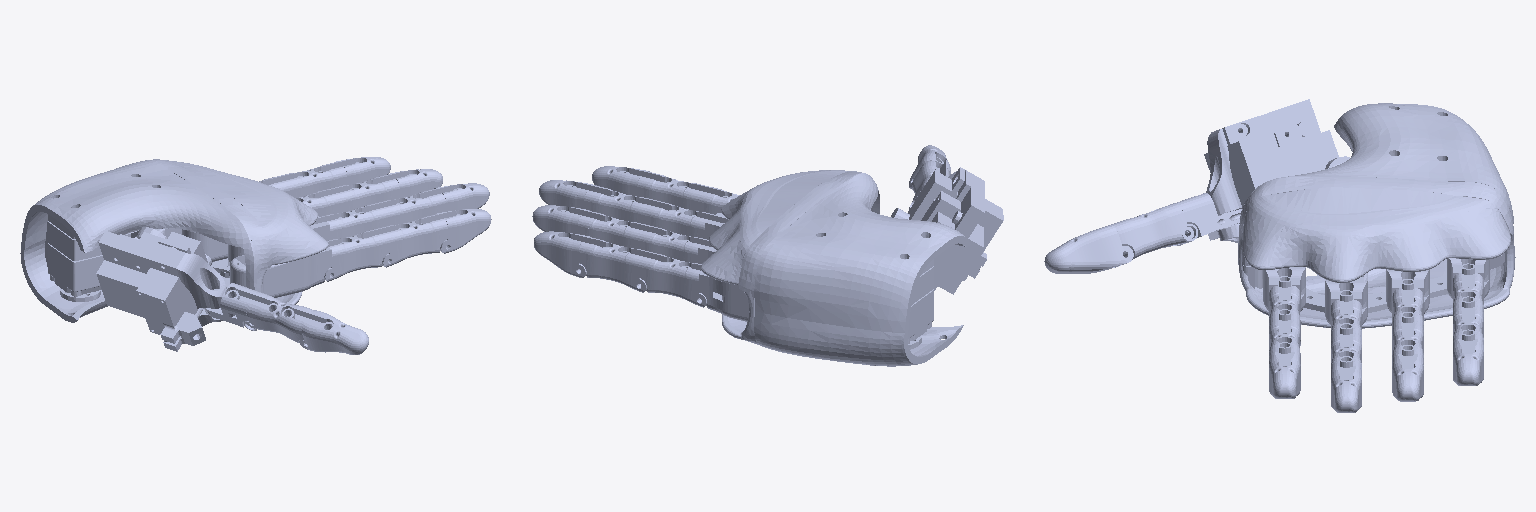
--- Render facts (derived) ---
The picture shows the robot from 3 angles, left to right: view 1: azimuth 30°, elevation 25°; view 2: azimuth 150°, elevation 25°; view 3: azimuth 270°, elevation 25°; orthographic projection.
Model soft_exterior_hand with 21 links and 20 joints (20 continuous), rooted at base_link, posed all joints at 0.
Links seen in each view (by area): view 1: base_link, thumb_link_0, index_link_0, index_link_2, index_link_1, thumb_link_3, thumb_link_2, index_link_3, ring_link_2, middle_link_2, middle_link_1, little_link_2 (+6 smaller); view 2: base_link, thumb_link_0, little_link_2, little_link_1, little_link_3, middle_link_2, index_link_2, middle_link_1, ring_link_2, ring_link_1, little_link_0, ring_link_3 (+4 smaller); view 3: base_link, thumb_link_0, thumb_link_3, thumb_link_2, thumb_link_1, ring_link_3, index_link_3, middle_link_3, little_link_3, middle_link_0, ring_link_0, index_link_0 (+9 smaller).
Boxes of the visible links, box(x1,y1,x2,y2) form: base_link: box(20, 159, 328, 322); thumb_link_0: box(96, 231, 226, 351); index_link_0: box(230, 247, 331, 297); index_link_2: box(380, 214, 447, 267); index_link_1: box(324, 228, 389, 281); thumb_link_3: box(299, 310, 368, 354); thumb_link_2: box(244, 292, 311, 342); index_link_3: box(437, 209, 491, 253); ring_link_2: box(330, 174, 399, 211); middle_link_2: box(379, 189, 445, 225); middle_link_1: box(321, 203, 387, 239); little_link_2: box(279, 162, 346, 197); base_link: box(701, 170, 970, 366); thumb_link_0: box(891, 167, 1003, 294); little_link_2: box(579, 237, 648, 292); little_link_1: box(639, 252, 706, 307); little_link_3: box(534, 231, 589, 277); middle_link_2: box(584, 186, 654, 223); index_link_2: box(637, 172, 707, 210); middle_link_1: box(645, 200, 714, 238); ring_link_2: box(578, 211, 649, 248); ring_link_1: box(638, 226, 707, 262); little_link_0: box(699, 272, 748, 321); ring_link_3: box(532, 205, 589, 233); base_link: box(1238, 103, 1515, 328); thumb_link_0: box(1204, 99, 1338, 242); thumb_link_3: box(1044, 225, 1133, 273); thumb_link_2: box(1111, 203, 1197, 266); thumb_link_1: box(1177, 193, 1241, 244); ring_link_3: box(1392, 354, 1423, 401); index_link_3: box(1269, 352, 1300, 398); middle_link_3: box(1331, 366, 1361, 412); little_link_3: box(1453, 339, 1483, 385); middle_link_0: box(1325, 273, 1367, 324); ring_link_0: box(1386, 269, 1429, 313); index_link_0: box(1263, 267, 1305, 311).
Bounding box of the posed robot: 0.1832 × 0.1567 × 0.0492 m (x, y, z).
21 mesh visuals loaded from 21 distinct referenced files (21 binary STL).

robot.urdf — soft_exterior_hand:
<?xml version="1.0" encoding="utf-8"?>
<!-- This URDF was automatically created by SolidWorks to URDF Exporter! Originally created by Stephen Brawner ([email redacted]) 
     Commit Version: 1.6.0-1-g15f4949  Build Version: 1.6.7594.29634
     For more information, please see http://wiki.ros.org/sw_urdf_exporter -->
<robot
  name="soft_exterior_hand">
  <link
    name="base_link">
    <inertial>
      <origin
        xyz="0.027561524551375 -0.00371843558037129 0.0211532225131142"
        rpy="0 0 0" />
      <mass
        value="0.0711611664433979" />
      <inertia
        ixx="4.39073465936608E-05"
        ixy="1.41079438324117E-05"
        ixz="-4.74189208084904E-07"
        iyy="5.8206720017937E-05"
        iyz="2.02671311342142E-06"
        izz="7.28463657446721E-05" />
    </inertial>
    <visual>
      <origin
        xyz="0 0 0"
        rpy="0 0 0" />
      <geometry>
        <mesh
          filename="package://soft_exterior_hand/meshes/base_link.STL" />
      </geometry>
      <material
        name="">
        <color
          rgba="0.792156862745098 0.819607843137255 0.933333333333333 1" />
      </material>
    </visual>
    <collision>
      <origin
        xyz="0 0 0"
        rpy="0 0 0" />
      <geometry>
        <mesh
          filename="package://soft_exterior_hand/meshes/base_link.STL" />
      </geometry>
    </collision>
  </link>
  <link
    name="index_link_0">
    <inertial>
      <origin
        xyz="0.0138646054905531 -4.39538700205203E-05 0.0110992694616182"
        rpy="0 0 0" />
      <mass
        value="0.00389551436223297" />
      <inertia
        ixx="1.57764153402908E-07"
        ixy="1.8088532856063E-09"
        ixz="-8.95755103566611E-09"
        iyy="6.50726035722494E-07"
        iyz="4.84404655044715E-11"
        izz="6.4631924388962E-07" />
    </inertial>
    <visual>
      <origin
        xyz="0 0 0"
        rpy="0 0 0" />
      <geometry>
        <mesh
          filename="package://soft_exterior_hand/meshes/index_link_0.STL" />
      </geometry>
      <material
        name="">
        <color
          rgba="0.792156862745098 0.819607843137255 0.933333333333333 1" />
      </material>
    </visual>
    <collision>
      <origin
        xyz="0 0 0"
        rpy="0 0 0" />
      <geometry>
        <mesh
          filename="package://soft_exterior_hand/meshes/index_link_0.STL" />
      </geometry>
    </collision>
  </link>
  <joint
    name="index_joint_0"
    type="continuous">
    <origin
      xyz="0.0522300000000001 -0.04448 0.00190000000000009"
      rpy="0 0 0" />
    <parent
      link="base_link" />
    <child
      link="index_link_0" />
    <axis
      xyz="0 0 -1" />
  </joint>
  <link
    name="index_link_1">
    <inertial>
      <origin
        xyz="0.0126576916048561 -3.57866607549051E-07 0.00392167963569328"
        rpy="0 0 0" />
      <mass
        value="0.00237597738047647" />
      <inertia
        ixx="5.30549026243299E-08"
        ixy="-8.326699069159E-13"
        ixz="-3.37594302555993E-09"
        iyy="1.77547241777009E-07"
        iyz="-7.1773823457129E-13"
        izz="1.71550604215861E-07" />
    </inertial>
    <visual>
      <origin
        xyz="0 0 0"
        rpy="0 0 0" />
      <geometry>
        <mesh
          filename="package://soft_exterior_hand/meshes/index_link_1.STL" />
      </geometry>
      <material
        name="">
        <color
          rgba="0.792156862745098 0.819607843137255 0.933333333333333 1" />
      </material>
    </visual>
    <collision>
      <origin
        xyz="0 0 0"
        rpy="0 0 0" />
      <geometry>
        <mesh
          filename="package://soft_exterior_hand/meshes/index_link_1.STL" />
      </geometry>
    </collision>
  </link>
  <joint
    name="index_joint_1"
    type="continuous">
    <origin
      xyz="0.0318999999999999 0 0.00739999999999985"
      rpy="0 0 0" />
    <parent
      link="index_link_0" />
    <child
      link="index_link_1" />
    <axis
      xyz="0 -1 0" />
  </joint>
  <link
    name="index_link_2">
    <inertial>
      <origin
        xyz="0.0126576916048561 -3.57866607569868E-07 0.00392167963569328"
        rpy="0 0 0" />
      <mass
        value="0.00237597738047648" />
      <inertia
        ixx="5.30549026243303E-08"
        ixy="-8.32669907055495E-13"
        ixz="-3.37594302555957E-09"
        iyy="1.7754724177701E-07"
        iyz="-7.17738234472653E-13"
        izz="1.71550604215861E-07" />
    </inertial>
    <visual>
      <origin
        xyz="0 0 0"
        rpy="0 0 0" />
      <geometry>
        <mesh
          filename="package://soft_exterior_hand/meshes/index_link_2.STL" />
      </geometry>
      <material
        name="">
        <color
          rgba="0.792156862745098 0.819607843137255 0.933333333333333 1" />
      </material>
    </visual>
    <collision>
      <origin
        xyz="0 0 0"
        rpy="0 0 0" />
      <geometry>
        <mesh
          filename="package://soft_exterior_hand/meshes/index_link_2.STL" />
      </geometry>
    </collision>
  </link>
  <joint
    name="index_joint_2"
    type="continuous">
    <origin
      xyz="0.026 0 0"
      rpy="0 0 0" />
    <parent
      link="index_link_1" />
    <child
      link="index_link_2" />
    <axis
      xyz="0 -1 0" />
  </joint>
  <link
    name="index_link_3">
    <inertial>
      <origin
        xyz="0.00860503834202481 -8.38412324496995E-08 0.00421284199336076"
        rpy="0 0 0" />
      <mass
        value="0.00163137310473608" />
      <inertia
        ixx="3.30569657826767E-08"
        ixy="6.79385555308085E-14"
        ixz="-8.58593590263515E-09"
        iyy="7.59237061247296E-08"
        iyz="1.35826395775513E-12"
        izz="7.18002864027143E-08" />
    </inertial>
    <visual>
      <origin
        xyz="0 0 0"
        rpy="0 0 0" />
      <geometry>
        <mesh
          filename="package://soft_exterior_hand/meshes/index_link_3.STL" />
      </geometry>
      <material
        name="">
        <color
          rgba="0.792156862745098 0.819607843137255 0.933333333333333 1" />
      </material>
    </visual>
    <collision>
      <origin
        xyz="0 0 0"
        rpy="0 0 0" />
      <geometry>
        <mesh
          filename="package://soft_exterior_hand/meshes/index_link_3.STL" />
      </geometry>
    </collision>
  </link>
  <joint
    name="index_joint_3"
    type="continuous">
    <origin
      xyz="0.026 0 0"
      rpy="0 0 0" />
    <parent
      link="index_link_2" />
    <child
      link="index_link_3" />
    <axis
      xyz="0 -1 0" />
  </joint>
  <link
    name="middle_link_0">
    <inertial>
      <origin
        xyz="0.0138646054905531 -4.3953870020548E-05 0.0110992694616183"
        rpy="0 0 0" />
      <mass
        value="0.00389551436223298" />
      <inertia
        ixx="1.57764153402908E-07"
        ixy="1.80885328560594E-09"
        ixz="-8.95755103566605E-09"
        iyy="6.50726035722495E-07"
        iyz="4.84404655046743E-11"
        izz="6.46319243889621E-07" />
    </inertial>
    <visual>
      <origin
        xyz="0 0 0"
        rpy="0 0 0" />
      <geometry>
        <mesh
          filename="package://soft_exterior_hand/meshes/middle_link_0.STL" />
      </geometry>
      <material
        name="">
        <color
          rgba="0.792156862745098 0.819607843137255 0.933333333333333 1" />
      </material>
    </visual>
    <collision>
      <origin
        xyz="0 0 0"
        rpy="0 0 0" />
      <geometry>
        <mesh
          filename="package://soft_exterior_hand/meshes/middle_link_0.STL" />
      </geometry>
    </collision>
  </link>
  <joint
    name="middle_joint_0"
    type="continuous">
    <origin
      xyz="0.0632300000000001 -0.0239799999999999 0.00190000000000009"
      rpy="0 0 0" />
    <parent
      link="base_link" />
    <child
      link="middle_link_0" />
    <axis
      xyz="0 0 -1" />
  </joint>
  <link
    name="middle_link_1">
    <inertial>
      <origin
        xyz="0.0126576916048561 -3.57866607524765E-07 0.00392167963569329"
        rpy="0 0 0" />
      <mass
        value="0.00237597738047648" />
      <inertia
        ixx="5.30549026243311E-08"
        ixy="-8.32669906543797E-13"
        ixz="-3.37594302555991E-09"
        iyy="1.7754724177701E-07"
        iyz="-7.17738234651779E-13"
        izz="1.71550604215862E-07" />
    </inertial>
    <visual>
      <origin
        xyz="0 0 0"
        rpy="0 0 0" />
      <geometry>
        <mesh
          filename="package://soft_exterior_hand/meshes/middle_link_1.STL" />
      </geometry>
      <material
        name="">
        <color
          rgba="0.792156862745098 0.819607843137255 0.933333333333333 1" />
      </material>
    </visual>
    <collision>
      <origin
        xyz="0 0 0"
        rpy="0 0 0" />
      <geometry>
        <mesh
          filename="package://soft_exterior_hand/meshes/middle_link_1.STL" />
      </geometry>
    </collision>
  </link>
  <joint
    name="middle_joint_1"
    type="continuous">
    <origin
      xyz="0.0318999999999998 0 0.00739999999999988"
      rpy="0 0 0" />
    <parent
      link="middle_link_0" />
    <child
      link="middle_link_1" />
    <axis
      xyz="0 -1 0" />
  </joint>
  <link
    name="middle_link_2">
    <inertial>
      <origin
        xyz="0.0126576916048561 -3.57866607549051E-07 0.00392167963569326"
        rpy="0 0 0" />
      <mass
        value="0.00237597738047648" />
      <inertia
        ixx="5.30549026243286E-08"
        ixy="-8.32669906831948E-13"
        ixz="-3.37594302555956E-09"
        iyy="1.7754724177701E-07"
        iyz="-7.17738234513857E-13"
        izz="1.7155060421586E-07" />
    </inertial>
    <visual>
      <origin
        xyz="0 0 0"
        rpy="0 0 0" />
      <geometry>
        <mesh
          filename="package://soft_exterior_hand/meshes/middle_link_2.STL" />
      </geometry>
      <material
        name="">
        <color
          rgba="0.792156862745098 0.819607843137255 0.933333333333333 1" />
      </material>
    </visual>
    <collision>
      <origin
        xyz="0 0 0"
        rpy="0 0 0" />
      <geometry>
        <mesh
          filename="package://soft_exterior_hand/meshes/middle_link_2.STL" />
      </geometry>
    </collision>
  </link>
  <joint
    name="middle_joint_2"
    type="continuous">
    <origin
      xyz="0.026 0 0"
      rpy="0 0 0" />
    <parent
      link="middle_link_1" />
    <child
      link="middle_link_2" />
    <axis
      xyz="0 -1 0" />
  </joint>
  <link
    name="middle_link_3">
    <inertial>
      <origin
        xyz="0.00860503834202486 -8.3841232453169E-08 0.00421284199336076"
        rpy="0 0 0" />
      <mass
        value="0.00163137310473607" />
      <inertia
        ixx="3.3056965782676E-08"
        ixy="6.79385555549689E-14"
        ixz="-8.58593590263549E-09"
        iyy="7.592370612473E-08"
        iyz="1.35826395787349E-12"
        izz="7.1800286402714E-08" />
    </inertial>
    <visual>
      <origin
        xyz="0 0 0"
        rpy="0 0 0" />
      <geometry>
        <mesh
          filename="package://soft_exterior_hand/meshes/middle_link_3.STL" />
      </geometry>
      <material
        name="">
        <color
          rgba="0.792156862745098 0.819607843137255 0.933333333333333 1" />
      </material>
    </visual>
    <collision>
      <origin
        xyz="0 0 0"
        rpy="0 0 0" />
      <geometry>
        <mesh
          filename="package://soft_exterior_hand/meshes/middle_link_3.STL" />
      </geometry>
    </collision>
  </link>
  <joint
    name="middle_joint_3"
    type="continuous">
    <origin
      xyz="0.026 0 0"
      rpy="0 0 0" />
    <parent
      link="middle_link_2" />
    <child
      link="middle_link_3" />
    <axis
      xyz="0 -1 0" />
  </joint>
  <link
    name="ring_link_0">
    <inertial>
      <origin
        xyz="0.0138646054905732 -4.39538700205836E-05 0.01109926946162"
        rpy="0 0 0" />
      <mass
        value="0.00389551436223298" />
      <inertia
        ixx="1.57764153402989E-07"
        ixy="1.80885328538972E-09"
        ixz="-8.95755103613517E-09"
        iyy="6.5072603572263E-07"
        iyz="4.84404654861054E-11"
        izz="6.46319243889677E-07" />
    </inertial>
    <visual>
      <origin
        xyz="0 0 0"
        rpy="0 0 0" />
      <geometry>
        <mesh
          filename="package://soft_exterior_hand/meshes/ring_link_0.STL" />
      </geometry>
      <material
        name="">
        <color
          rgba="0.792156862745098 0.819607843137255 0.933333333333333 1" />
      </material>
    </visual>
    <collision>
      <origin
        xyz="0 0 0"
        rpy="0 0 0" />
      <geometry>
        <mesh
          filename="package://soft_exterior_hand/meshes/ring_link_0.STL" />
      </geometry>
    </collision>
  </link>
  <joint
    name="ring_joint_0"
    type="continuous">
    <origin
      xyz="0.0542300000000002 -0.0034799999999999 0.0019000000000001"
      rpy="0 0 0" />
    <parent
      link="base_link" />
    <child
      link="ring_link_0" />
    <axis
      xyz="0 0 -1" />
  </joint>
  <link
    name="ring_link_1">
    <inertial>
      <origin
        xyz="0.0126576916048564 -3.5786660753474E-07 0.00392167963569337"
        rpy="0 0 0" />
      <mass
        value="0.00237597738047645" />
      <inertia
        ixx="5.30549026243275E-08"
        ixy="-8.32669906701583E-13"
        ixz="-3.37594302555601E-09"
        iyy="1.77547241776999E-07"
        iyz="-7.1773823448307E-13"
        izz="1.71550604215851E-07" />
    </inertial>
    <visual>
      <origin
        xyz="0 0 0"
        rpy="0 0 0" />
      <geometry>
        <mesh
          filename="package://soft_exterior_hand/meshes/ring_link_1.STL" />
      </geometry>
      <material
        name="">
        <color
          rgba="0.792156862745098 0.819607843137255 0.933333333333333 1" />
      </material>
    </visual>
    <collision>
      <origin
        xyz="0 0 0"
        rpy="0 0 0" />
      <geometry>
        <mesh
          filename="package://soft_exterior_hand/meshes/ring_link_1.STL" />
      </geometry>
    </collision>
  </link>
  <joint
    name="ring_joint_1"
    type="continuous">
    <origin
      xyz="0.0318999999999998 0 0.00739999999999987"
      rpy="0 0 0" />
    <parent
      link="ring_link_0" />
    <child
      link="ring_link_1" />
    <axis
      xyz="0 -1 0" />
  </joint>
  <link
    name="ring_link_2">
    <inertial>
      <origin
        xyz="0.0126576916048564 -3.57866607535607E-07 0.00392167963569339"
        rpy="0 0 0" />
      <mass
        value="0.00237597738047644" />
      <inertia
        ixx="5.30549026243267E-08"
        ixy="-8.32669906884809E-13"
        ixz="-3.37594302555458E-09"
        iyy="1.77547241776996E-07"
        iyz="-7.17738234544481E-13"
        izz="1.71550604215848E-07" />
    </inertial>
    <visual>
      <origin
        xyz="0 0 0"
        rpy="0 0 0" />
      <geometry>
        <mesh
          filename="package://soft_exterior_hand/meshes/ring_link_2.STL" />
      </geometry>
      <material
        name="">
        <color
          rgba="0.792156862745098 0.819607843137255 0.933333333333333 1" />
      </material>
    </visual>
    <collision>
      <origin
        xyz="0 0 0"
        rpy="0 0 0" />
      <geometry>
        <mesh
          filename="package://soft_exterior_hand/meshes/ring_link_2.STL" />
      </geometry>
    </collision>
  </link>
  <joint
    name="ring_joint_2"
    type="continuous">
    <origin
      xyz="0.026 0 0"
      rpy="0 0 0" />
    <parent
      link="ring_link_1" />
    <child
      link="ring_link_2" />
    <axis
      xyz="0 -1 0" />
  </joint>
  <link
    name="ring_link_3">
    <inertial>
      <origin
        xyz="0.00860503834216281 -8.38412320914791E-08 0.00421284199341771"
        rpy="0 0 0" />
      <mass
        value="0.00163137310472835" />
      <inertia
        ixx="3.3056965781907E-08"
        ixy="6.79385735891425E-14"
        ixz="-8.5859359014276E-09"
        iyy="7.59237061233379E-08"
        iyz="1.35826396549316E-12"
        izz="7.1800286402045E-08" />
    </inertial>
    <visual>
      <origin
        xyz="0 0 0"
        rpy="0 0 0" />
      <geometry>
        <mesh
          filename="package://soft_exterior_hand/meshes/ring_link_3.STL" />
      </geometry>
      <material
        name="">
        <color
          rgba="0.792156862745098 0.819607843137255 0.933333333333333 1" />
      </material>
    </visual>
    <collision>
      <origin
        xyz="0 0 0"
        rpy="0 0 0" />
      <geometry>
        <mesh
          filename="package://soft_exterior_hand/meshes/ring_link_3.STL" />
      </geometry>
    </collision>
  </link>
  <joint
    name="ring_joint_3"
    type="continuous">
    <origin
      xyz="0.026 0 0"
      rpy="0 0 0" />
    <parent
      link="ring_link_2" />
    <child
      link="ring_link_3" />
    <axis
      xyz="0 -1 0" />
  </joint>
  <link
    name="little_link_0">
    <inertial>
      <origin
        xyz="0.0138646054905531 -4.39538700205862E-05 0.0110992694616182"
        rpy="0 0 0" />
      <mass
        value="0.00389551436223297" />
      <inertia
        ixx="1.57764153402908E-07"
        ixy="1.80885328560565E-09"
        ixz="-8.95755103566553E-09"
        iyy="6.50726035722496E-07"
        iyz="4.84404655047005E-11"
        izz="6.46319243889623E-07" />
    </inertial>
    <visual>
      <origin
        xyz="0 0 0"
        rpy="0 0 0" />
      <geometry>
        <mesh
          filename="package://soft_exterior_hand/meshes/little_link_0.STL" />
      </geometry>
      <material
        name="">
        <color
          rgba="0.792156862745098 0.819607843137255 0.933333333333333 1" />
      </material>
    </visual>
    <collision>
      <origin
        xyz="0 0 0"
        rpy="0 0 0" />
      <geometry>
        <mesh
          filename="package://soft_exterior_hand/meshes/little_link_0.STL" />
      </geometry>
    </collision>
  </link>
  <joint
    name="little_joint_0"
    type="continuous">
    <origin
      xyz="0.0422300000000001 0.0165200000000001 0.00190000000000008"
      rpy="0 0 0" />
    <parent
      link="base_link" />
    <child
      link="little_link_0" />
    <axis
      xyz="0 0 -1" />
  </joint>
  <link
    name="little_link_1">
    <inertial>
      <origin
        xyz="0.0126576916048561 -3.57866607528234E-07 0.00392167963569328"
        rpy="0 0 0" />
      <mass
        value="0.00237597738047648" />
      <inertia
        ixx="5.30549026243279E-08"
        ixy="-8.3266990648508E-13"
        ixz="-3.37594302555951E-09"
        iyy="1.7754724177701E-07"
        iyz="-7.1773823453725E-13"
        izz="1.71550604215859E-07" />
    </inertial>
    <visual>
      <origin
        xyz="0 0 0"
        rpy="0 0 0" />
      <geometry>
        <mesh
          filename="package://soft_exterior_hand/meshes/little_link_1.STL" />
      </geometry>
      <material
        name="">
        <color
          rgba="0.792156862745098 0.819607843137255 0.933333333333333 1" />
      </material>
    </visual>
    <collision>
      <origin
        xyz="0 0 0"
        rpy="0 0 0" />
      <geometry>
        <mesh
          filename="package://soft_exterior_hand/meshes/little_link_1.STL" />
      </geometry>
    </collision>
  </link>
  <joint
    name="little_joint_1"
    type="continuous">
    <origin
      xyz="0.0318999999999999 0 0.00739999999999989"
      rpy="0 0 0" />
    <parent
      link="little_link_0" />
    <child
      link="little_link_1" />
    <axis
      xyz="0 -1 0" />
  </joint>
  <link
    name="little_link_2">
    <inertial>
      <origin
        xyz="0.0126576916048561 -3.57866607597623E-07 0.00392167963569327"
        rpy="0 0 0" />
      <mass
        value="0.00237597738047647" />
      <inertia
        ixx="5.30549026243284E-08"
        ixy="-8.32669906210621E-13"
        ixz="-3.37594302555966E-09"
        iyy="1.7754724177701E-07"
        iyz="-7.17738234654727E-13"
        izz="1.71550604215859E-07" />
    </inertial>
    <visual>
      <origin
        xyz="0 0 0"
        rpy="0 0 0" />
      <geometry>
        <mesh
          filename="package://soft_exterior_hand/meshes/little_link_2.STL" />
      </geometry>
      <material
        name="">
        <color
          rgba="0.792156862745098 0.819607843137255 0.933333333333333 1" />
      </material>
    </visual>
    <collision>
      <origin
        xyz="0 0 0"
        rpy="0 0 0" />
      <geometry>
        <mesh
          filename="package://soft_exterior_hand/meshes/little_link_2.STL" />
      </geometry>
    </collision>
  </link>
  <joint
    name="little_joint_2"
    type="continuous">
    <origin
      xyz="0.026 0 0"
      rpy="0 0 0" />
    <parent
      link="little_link_1" />
    <child
      link="little_link_2" />
    <axis
      xyz="0 -1 0" />
  </joint>
  <link
    name="little_link_3">
    <inertial>
      <origin
        xyz="0.00860503834202481 -8.38412324670468E-08 0.00421284199336076"
        rpy="0 0 0" />
      <mass
        value="0.00163137310473608" />
      <inertia
        ixx="3.30569657826765E-08"
        ixy="6.7938555326949E-14"
        ixz="-8.58593590263523E-09"
        iyy="7.59237061247294E-08"
        iyz="1.35826395775496E-12"
        izz="7.18002864027136E-08" />
    </inertial>
    <visual>
      <origin
        xyz="0 0 0"
        rpy="0 0 0" />
      <geometry>
        <mesh
          filename="package://soft_exterior_hand/meshes/little_link_3.STL" />
      </geometry>
      <material
        name="">
        <color
          rgba="0.792156862745098 0.819607843137255 0.933333333333333 1" />
      </material>
    </visual>
    <collision>
      <origin
        xyz="0 0 0"
        rpy="0 0 0" />
      <geometry>
        <mesh
          filename="package://soft_exterior_hand/meshes/little_link_3.STL" />
      </geometry>
    </collision>
  </link>
  <joint
    name="little_joint_3"
    type="continuous">
    <origin
      xyz="0.026 0 0"
      rpy="0 0 0" />
    <parent
      link="little_link_2" />
    <child
      link="little_link_3" />
    <axis
      xyz="0 -1 0" />
  </joint>
  <link
    name="thumb_link_0">
    <inertial>
      <origin
        xyz="0.0157320408370078 -0.0160377339099355 0.00698874746707754"
        rpy="0 0 0" />
      <mass
        value="0.0288073501759058" />
      <inertia
        ixx="4.31554694197259E-06"
        ixy="1.20935243183422E-07"
        ixz="-8.43986593166558E-08"
        iyy="6.21577621488319E-06"
        iyz="1.07385392925341E-07"
        izz="5.18344658182544E-06" />
    </inertial>
    <visual>
      <origin
        xyz="0 0 0"
        rpy="0 0 0" />
      <geometry>
        <mesh
          filename="package://soft_exterior_hand/meshes/thumb_link_0.STL" />
      </geometry>
      <material
        name="">
        <color
          rgba="0.792156862745098 0.819607843137255 0.933333333333333 1" />
      </material>
    </visual>
    <collision>
      <origin
        xyz="0 0 0"
        rpy="0 0 0" />
      <geometry>
        <mesh
          filename="package://soft_exterior_hand/meshes/thumb_link_0.STL" />
      </geometry>
    </collision>
  </link>
  <joint
    name="thumb_joint_0"
    type="continuous">
    <origin
      xyz="0.0154900596764687 -0.026249253868725 0.0274088710410702"
      rpy="0.5439465773495 0.0873468610562781 -1.04595498206026" />
    <parent
      link="base_link" />
    <child
      link="thumb_link_0" />
    <axis
      xyz="0 1 0" />
  </joint>
  <link
    name="thumb_link_1">
    <inertial>
      <origin
        xyz="0.0096330774913041 -1.5347745485339E-06 0.00308423099670708"
        rpy="0 0 0" />
      <mass
        value="0.00161538940004171" />
      <inertia
        ixx="3.9466884005997E-08"
        ixy="-6.67078389178596E-10"
        ixz="-9.42200994670504E-09"
        iyy="6.57394465356141E-08"
        iyz="-3.06907899961887E-10"
        izz="6.49942418436317E-08" />
    </inertial>
    <visual>
      <origin
        xyz="0 0 0"
        rpy="0 0 0" />
      <geometry>
        <mesh
          filename="package://soft_exterior_hand/meshes/thumb_link_1.STL" />
      </geometry>
      <material
        name="">
        <color
          rgba="0.792156862745098 0.819607843137255 0.933333333333333 1" />
      </material>
    </visual>
    <collision>
      <origin
        xyz="0 0 0"
        rpy="0 0 0" />
      <geometry>
        <mesh
          filename="package://soft_exterior_hand/meshes/thumb_link_1.STL" />
      </geometry>
    </collision>
  </link>
  <joint
    name="thumb_joint_1"
    type="continuous">
    <origin
      xyz="0.0375 -0.01224 -0.000999999999996318"
      rpy="0 0 0" />
    <parent
      link="thumb_link_0" />
    <child
      link="thumb_link_1" />
    <axis
      xyz="0 0 -1" />
  </joint>
  <link
    name="thumb_link_2">
    <inertial>
      <origin
        xyz="0.012331680473158 -1.54907130319668E-05 0.00390149907110793"
        rpy="0 0 0" />
      <mass
        value="0.00247568336262628" />
      <inertia
        ixx="5.72174757818961E-08"
        ixy="-4.69068582282001E-10"
        ixz="-3.12535272938495E-09"
        iyy="1.71521037397584E-07"
        iyz="-1.46534931819109E-10"
        izz="1.69679118982541E-07" />
    </inertial>
    <visual>
      <origin
        xyz="0 0 0"
        rpy="0 0 0" />
      <geometry>
        <mesh
          filename="package://soft_exterior_hand/meshes/thumb_link_2.STL" />
      </geometry>
      <material
        name="">
        <color
          rgba="0.792156862745098 0.819607843137255 0.933333333333333 1" />
      </material>
    </visual>
    <collision>
      <origin
        xyz="0 0 0"
        rpy="0 0 0" />
      <geometry>
        <mesh
          filename="package://soft_exterior_hand/meshes/thumb_link_2.STL" />
      </geometry>
    </collision>
  </link>
  <joint
    name="thumb_joint_2"
    type="continuous">
    <origin
      xyz="0.0175893879428512 0 0"
      rpy="0 0.00220953880199364 0" />
    <parent
      link="thumb_link_1" />
    <child
      link="thumb_link_2" />
    <axis
      xyz="0 -1 0" />
  </joint>
  <link
    name="thumb_link_3">
    <inertial>
      <origin
        xyz="0.0105724154586841 1.37076385138546E-07 0.00397135636188639"
        rpy="0 0 0" />
      <mass
        value="0.00242257356292801" />
      <inertia
        ixx="5.36989099910263E-08"
        ixy="1.77971992670407E-11"
        ixz="-1.09313214450099E-08"
        iyy="1.49460817502581E-07"
        iyz="3.27834417964981E-12"
        izz="1.47152426594827E-07" />
    </inertial>
    <visual>
      <origin
        xyz="0 0 0"
        rpy="0 0 0" />
      <geometry>
        <mesh
          filename="package://soft_exterior_hand/meshes/thumb_link_3.STL" />
      </geometry>
      <material
        name="">
        <color
          rgba="0.792156862745098 0.819607843137255 0.933333333333333 1" />
      </material>
    </visual>
    <collision>
      <origin
        xyz="0 0 0"
        rpy="0 0 0" />
      <geometry>
        <mesh
          filename="package://soft_exterior_hand/meshes/thumb_link_3.STL" />
      </geometry>
    </collision>
  </link>
  <joint
    name="thumb_joint_3"
    type="continuous">
    <origin
      xyz="0.024999999999999 0 0"
      rpy="0 -0.00672525174935543 0" />
    <parent
      link="thumb_link_2" />
    <child
      link="thumb_link_3" />
    <axis
      xyz="0 -1 0" />
  </joint>
</robot>
